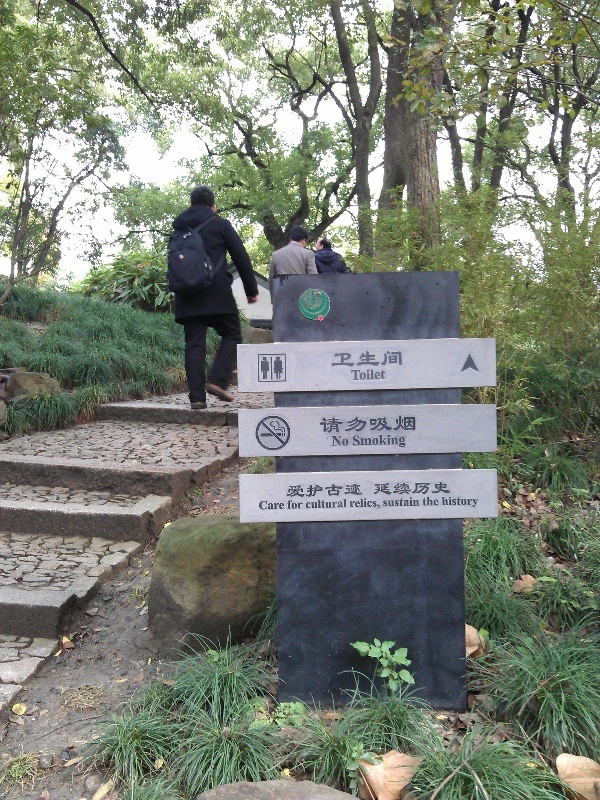text: (401, 415, 417, 434), (337, 350, 352, 369), (353, 350, 368, 369), (369, 350, 384, 369), (385, 350, 400, 369), (321, 415, 336, 434), (337, 415, 352, 434), (353, 415, 368, 434), (369, 415, 384, 434), (385, 415, 400, 434), (353, 433, 368, 450), (369, 433, 384, 450), (385, 433, 400, 450), (289, 483, 304, 498), (305, 483, 320, 498), (321, 483, 336, 498), (337, 483, 352, 498), (385, 482, 400, 497), (401, 482, 416, 497), (417, 482, 432, 497), (433, 482, 448, 497), (353, 368, 368, 382), (369, 368, 384, 382), (353, 498, 368, 510), (353, 483, 364, 498), (373, 482, 384, 497), (321, 499, 336, 510), (385, 497, 400, 508), (401, 497, 416, 508), (449, 497, 464, 508), (306, 499, 320, 510), (465, 497, 479, 508), (337, 436, 349, 448), (369, 498, 381, 510), (259, 500, 272, 511), (273, 500, 286, 511), (289, 500, 303, 510), (337, 499, 349, 510), (401, 433, 407, 450), (331, 350, 336, 369), (422, 498, 432, 507), (442, 497, 448, 508), (433, 498, 439, 507), (332, 436, 336, 448), (401, 350, 403, 369), (318, 415, 320, 434), (349, 498, 352, 510), (417, 497, 420, 508), (286, 483, 288, 498), (449, 482, 451, 497), (385, 368, 387, 382), (351, 368, 352, 382), (383, 497, 384, 508), (287, 500, 288, 510)
